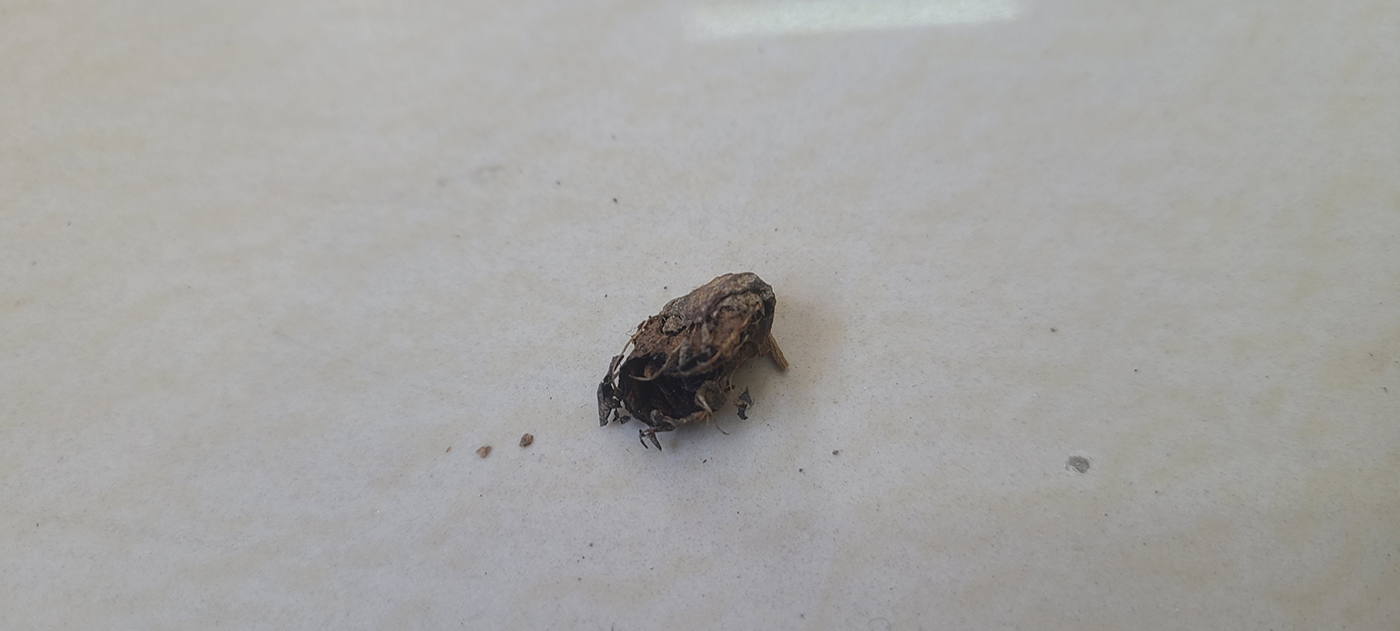l: (595, 274, 796, 448)
